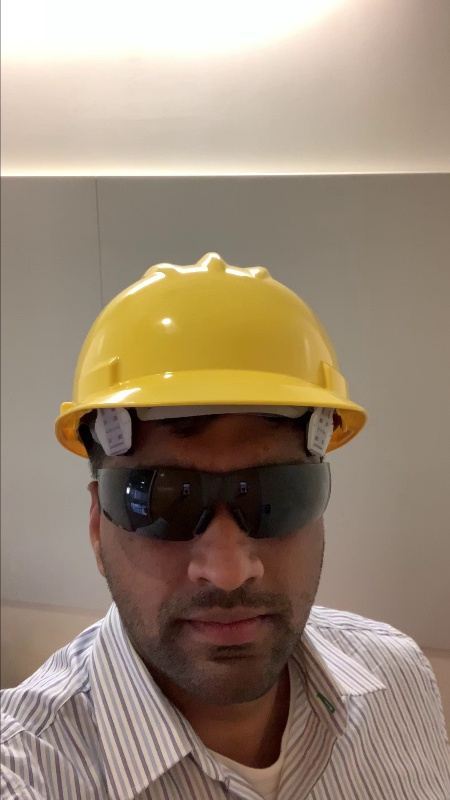glasses: (84, 455, 341, 538)
helmet: (39, 247, 365, 456)
